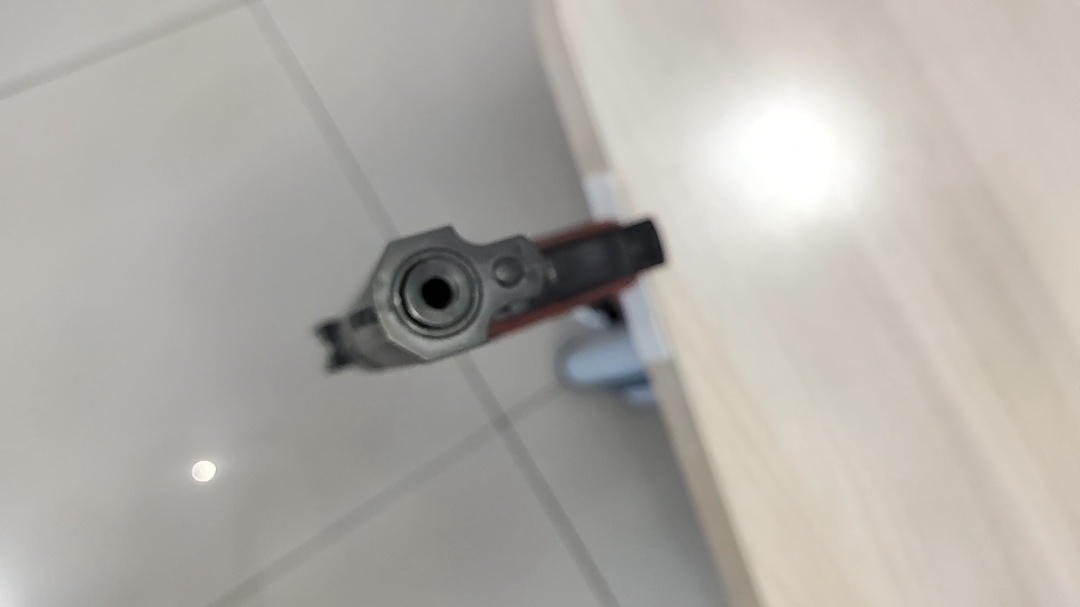gun: (314, 215, 669, 378)
